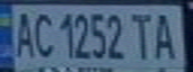1: (54, 9, 75, 58)
2: (106, 9, 130, 61), (72, 9, 90, 60)
5: (87, 9, 109, 61)
A: (148, 9, 184, 61), (9, 8, 36, 59)
C: (30, 8, 57, 59)
T: (127, 9, 157, 61)
